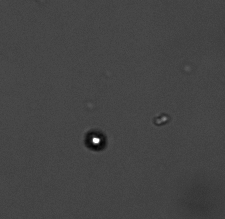Living Cell: (83, 129, 107, 152)
